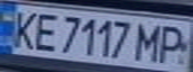1: (93, 16, 115, 57), (75, 15, 96, 56)
7: (109, 18, 136, 60), (54, 14, 81, 54)
E: (27, 9, 63, 52)
K: (6, 7, 42, 51)
M: (133, 20, 166, 63)
P: (154, 22, 193, 65)
